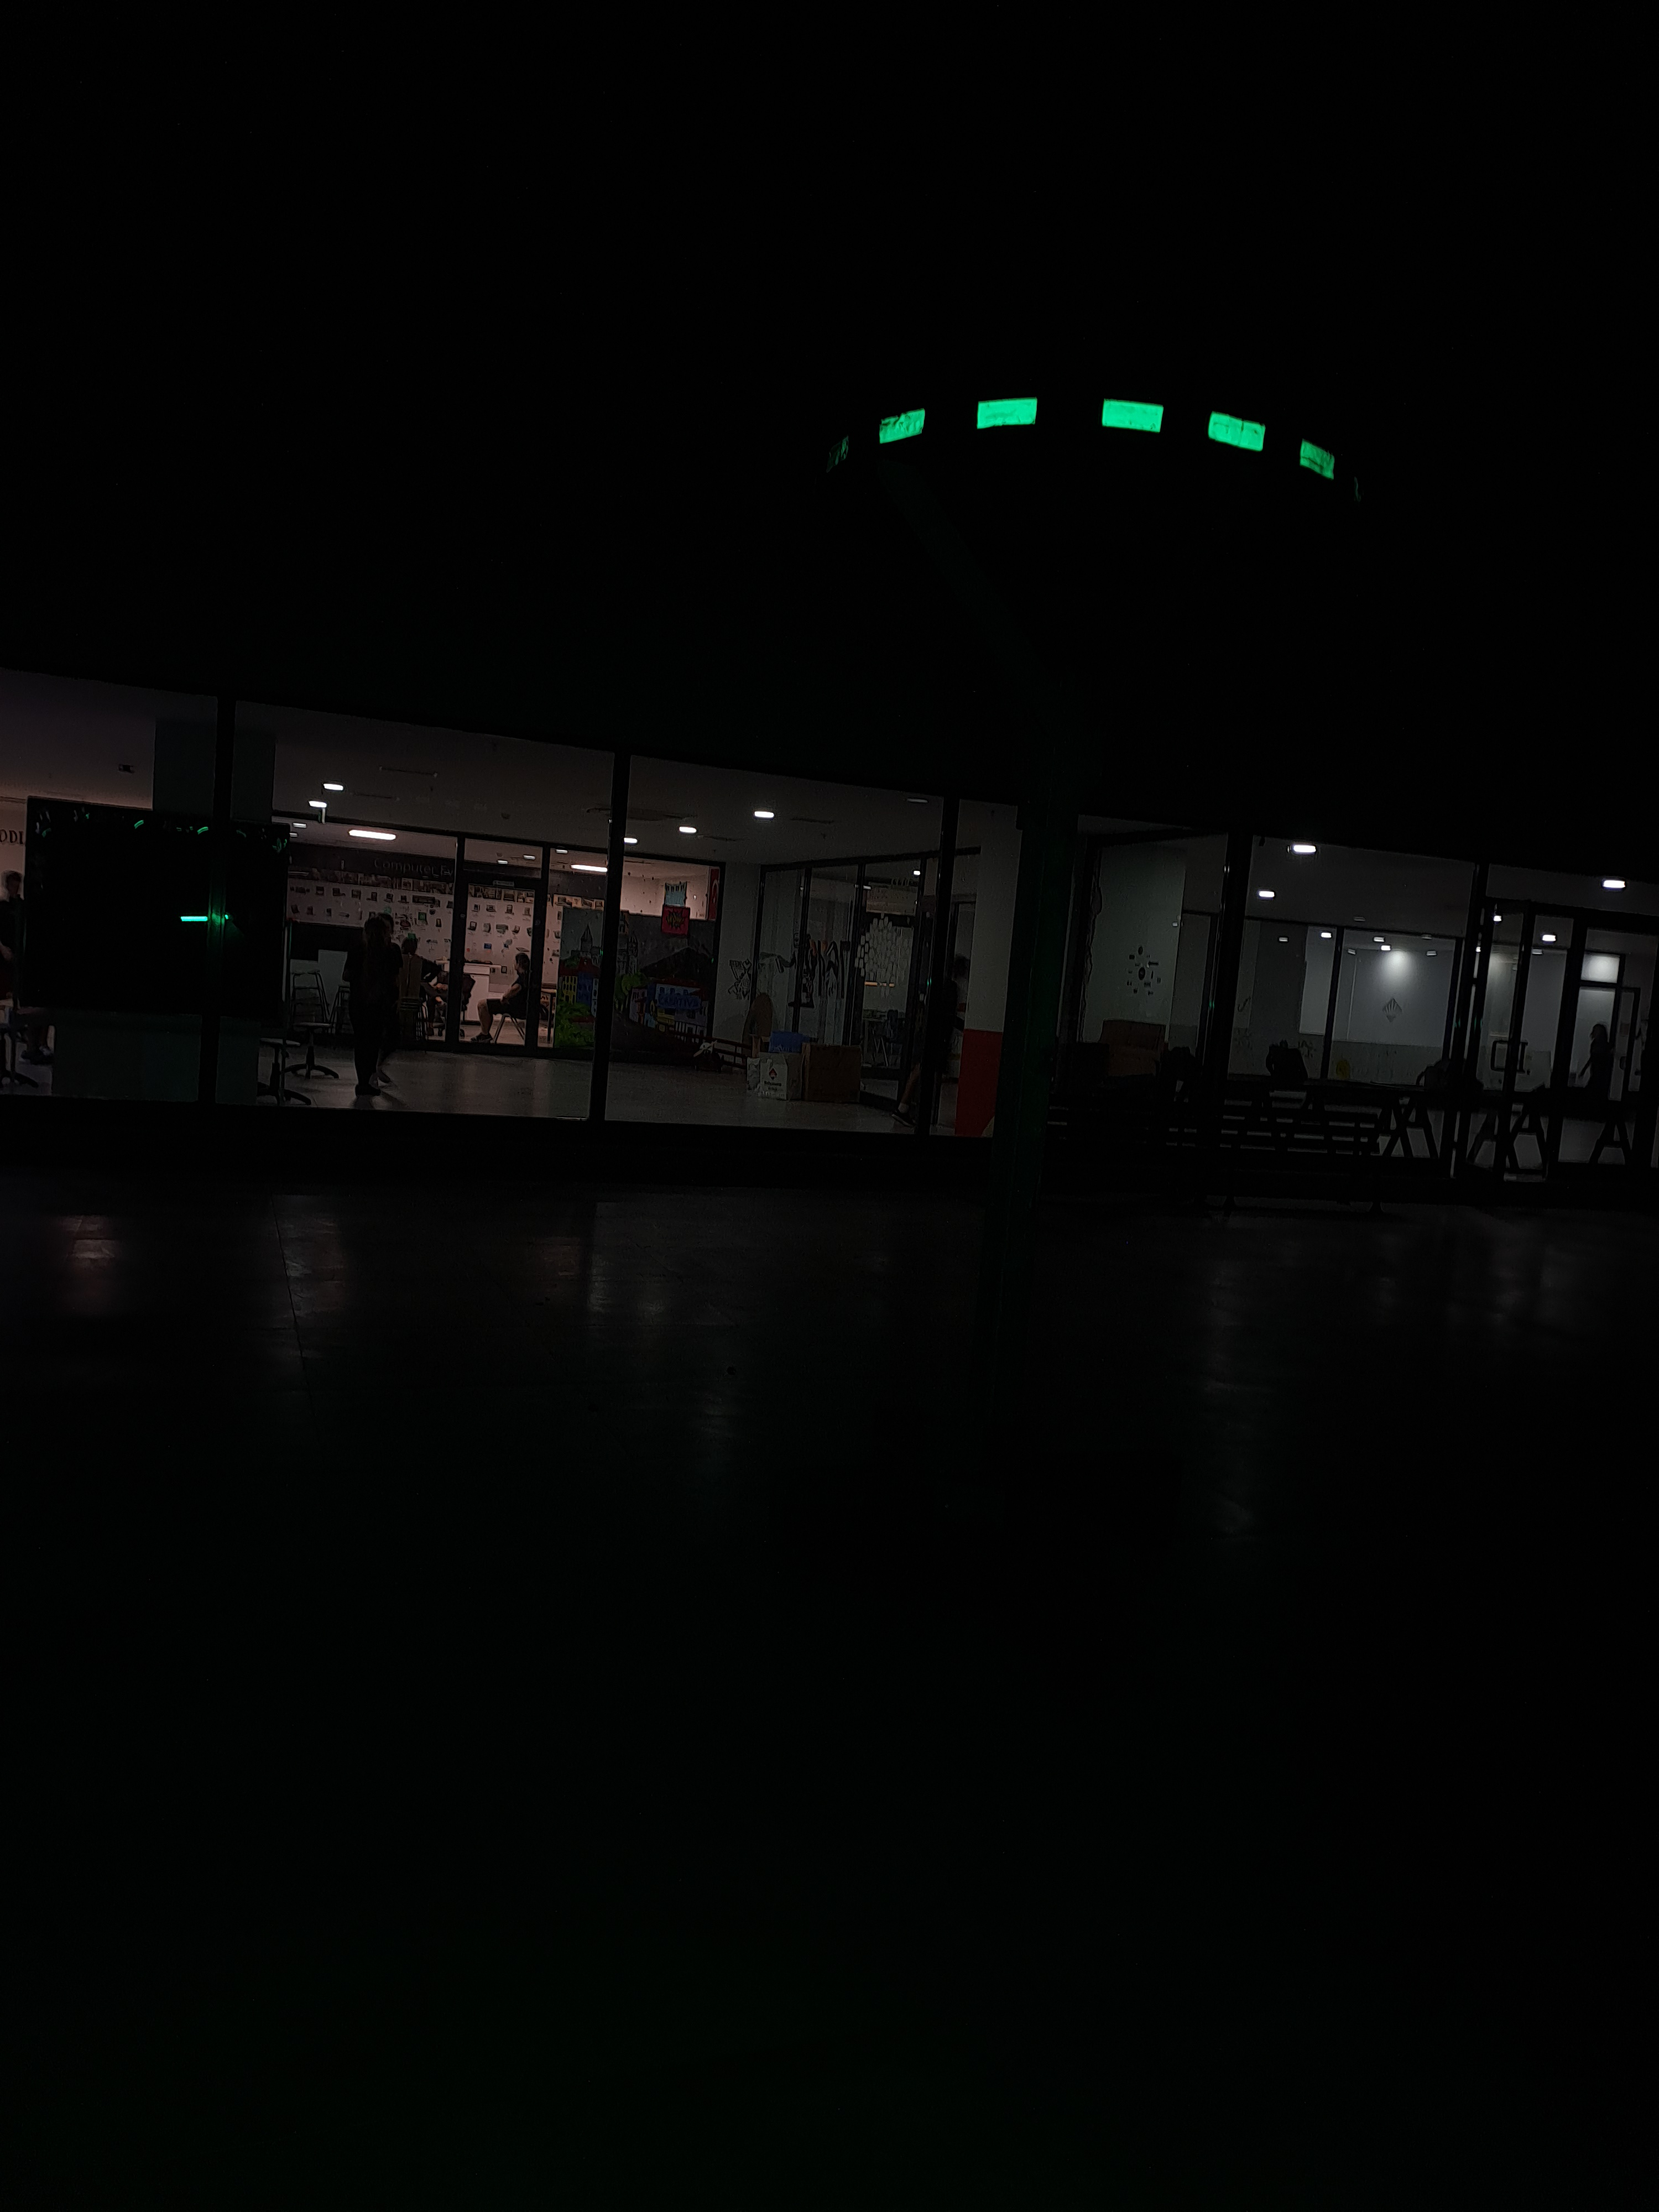hoop: (873, 387, 1342, 509)
